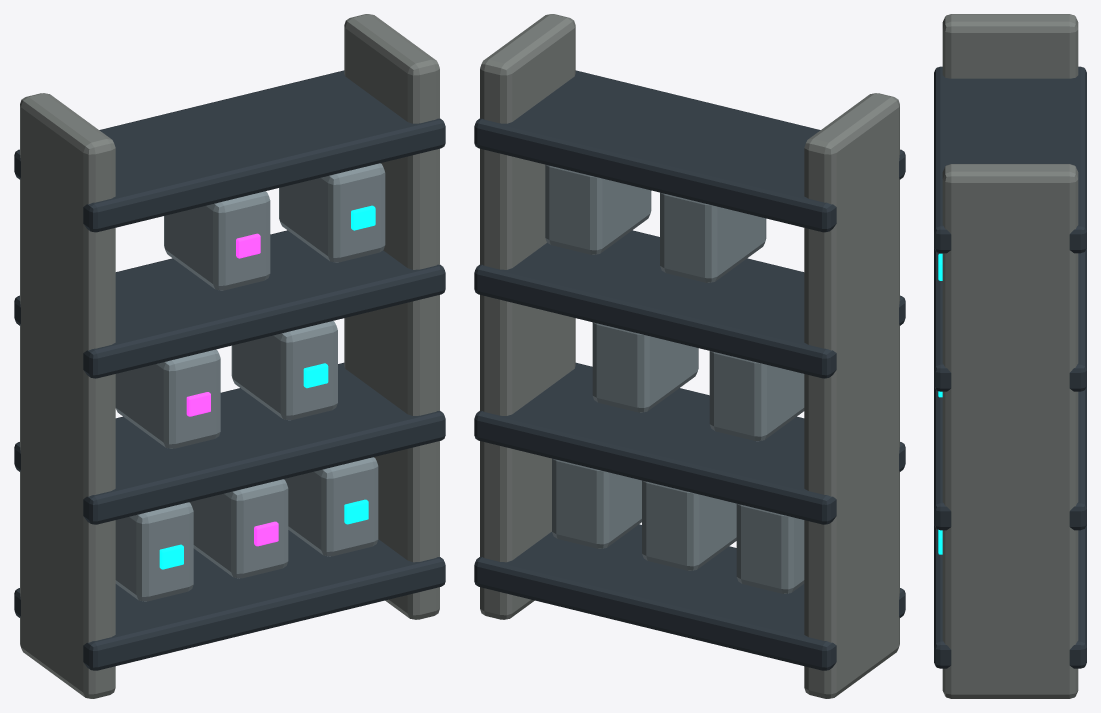
Rendered from Archive-Shelf.glb.
The picture shows the model from 3 angles, left to right: view 1: azimuth 30°, elevation 25°; view 2: azimuth 150°, elevation 25°; view 3: azimuth 270°, elevation 25°; orthographic projection. The views are drawn at different scales.
Parts seen in each view (by area): view 1: ArchiveShelf_Post, ArchiveShelf_Shelf.003, ArchiveShelf_Post.001, ArchiveShelf_Shelf.002, ArchiveShelf_Shelf.001, ArchiveShelf_Shelf, ArchiveShelf_DataBlock_5, ArchiveShelf_DataBlock_6, ArchiveShelf_DataBlock_4, ArchiveShelf_DataBlock_3, ArchiveShelf_DataBlock_1, ArchiveShelf_DataBlock_2 (+1 smaller); view 2: ArchiveShelf_Post, ArchiveShelf_Post.001, ArchiveShelf_Shelf.003, ArchiveShelf_Shelf.002, ArchiveShelf_Shelf.001, ArchiveShelf_Shelf, ArchiveShelf_DataBlock_4, ArchiveShelf_DataBlock_6, ArchiveShelf_DataBlock_5, ArchiveShelf_DataBlock_3, ArchiveShelf_DataBlock_1, ArchiveShelf_DataBlock_2 (+1 smaller); view 3: ArchiveShelf_Post.001, ArchiveShelf_Shelf.003, ArchiveShelf_Post, ArchiveShelf_Shelf.001, ArchiveShelf_Shelf, ArchiveShelf_Shelf.002.
Boxes of the visible parts, x1,y1,x2,y2 form: ArchiveShelf_Post: (20, 93, 115, 698); ArchiveShelf_Shelf.003: (14, 70, 445, 232); ArchiveShelf_Post.001: (344, 14, 439, 619); ArchiveShelf_Shelf.002: (14, 230, 445, 378); ArchiveShelf_Shelf.001: (14, 362, 445, 524); ArchiveShelf_Shelf: (14, 530, 445, 670); ArchiveShelf_DataBlock_5: (164, 191, 270, 290); ArchiveShelf_DataBlock_6: (279, 163, 385, 262); ArchiveShelf_DataBlock_4: (231, 321, 337, 420); ArchiveShelf_DataBlock_3: (115, 349, 220, 448); ArchiveShelf_DataBlock_1: (189, 479, 288, 578); ArchiveShelf_DataBlock_2: (284, 457, 378, 556); ArchiveShelf_Post: (804, 93, 899, 698); ArchiveShelf_Post.001: (480, 14, 575, 619); ArchiveShelf_Shelf.003: (474, 70, 905, 232); ArchiveShelf_Shelf.002: (474, 230, 905, 378); ArchiveShelf_Shelf.001: (474, 362, 905, 524); ArchiveShelf_Shelf: (474, 524, 905, 670); ArchiveShelf_DataBlock_4: (592, 322, 698, 412); ArchiveShelf_DataBlock_6: (545, 164, 651, 254); ArchiveShelf_DataBlock_5: (660, 192, 766, 282); ArchiveShelf_DataBlock_3: (709, 351, 804, 441); ArchiveShelf_DataBlock_1: (642, 480, 736, 570); ArchiveShelf_DataBlock_2: (552, 458, 641, 548); ArchiveShelf_Post.001: (942, 164, 1078, 698); ArchiveShelf_Shelf.003: (934, 66, 1086, 253); ArchiveShelf_Post: (942, 14, 1078, 78); ArchiveShelf_Shelf.001: (934, 386, 1086, 530); ArchiveShelf_Shelf: (934, 525, 1086, 668); ArchiveShelf_Shelf.002: (934, 248, 1086, 391).
Bounding box in the file's own units: 1.58 × 2.36 × 0.62.
